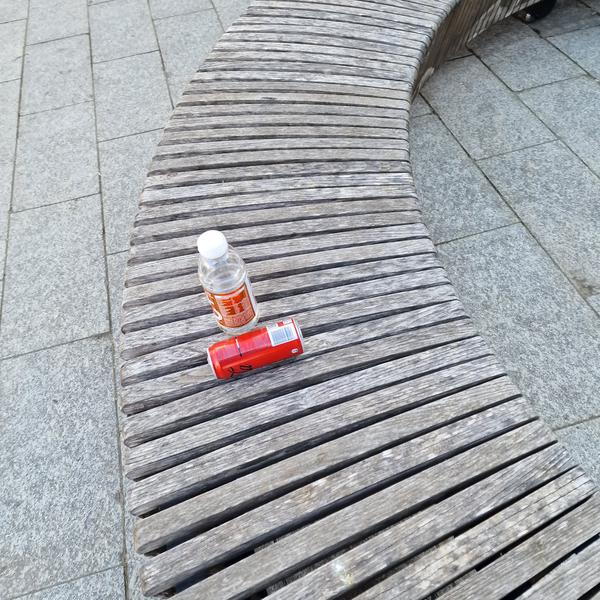can: (202, 314, 308, 384)
plastic_bottle: (185, 222, 266, 339)
